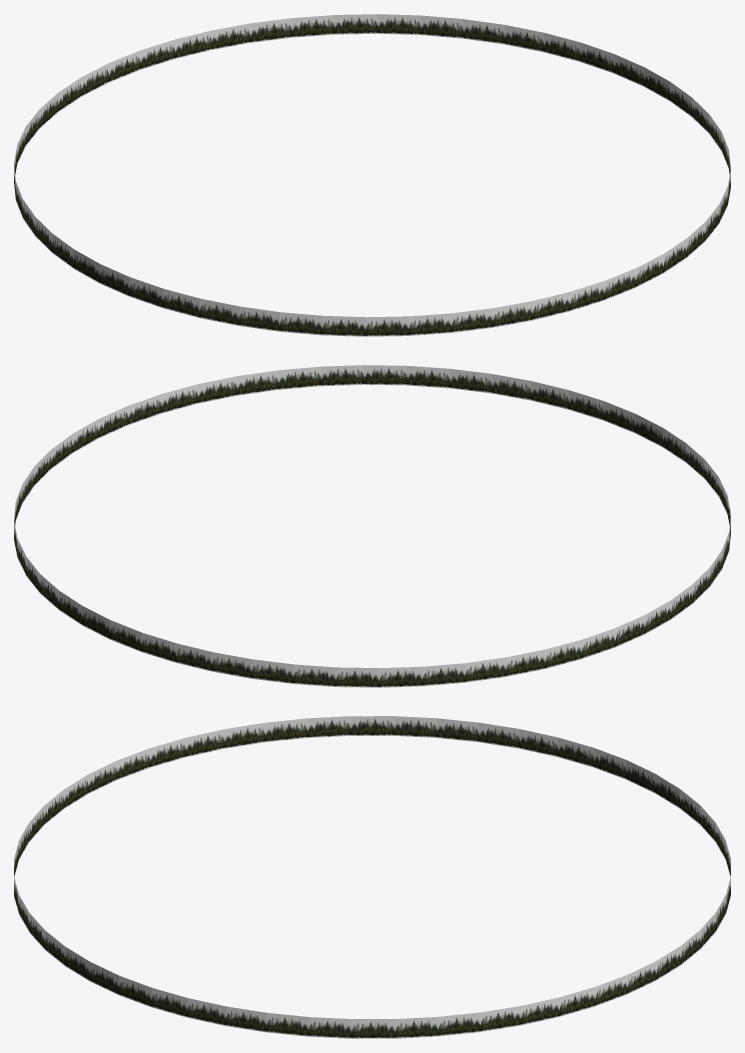
The model's file is SpruceForest_Distance.glb.
The picture shows the model from 3 angles, top to bottom: view 1: azimuth 30°, elevation 25°; view 2: azimuth 150°, elevation 25°; view 3: azimuth 270°, elevation 25°; orthographic projection.
Parts seen in each view (by area): view 1: SpruceForest_Distant.001; view 2: SpruceForest_Distant.001; view 3: SpruceForest_Distant.001.
Boxes of the visible parts, x1,y1,x2,y2 form: SpruceForest_Distant.001: [14, 14, 730, 336]; SpruceForest_Distant.001: [14, 365, 730, 687]; SpruceForest_Distant.001: [14, 716, 730, 1038].
Size of the model in its own units: 32.96 by 1 by 32.97.
1 material, 1 textured.
